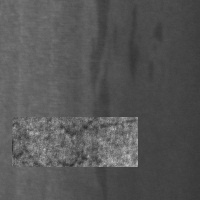crazing: (12, 117, 138, 167)
inclusion: (85, 1, 116, 196), (121, 2, 144, 88), (147, 18, 167, 50)
